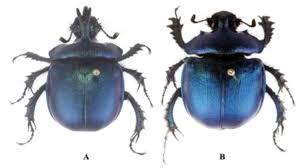insect: (9, 4, 156, 160), (158, 4, 297, 167)
